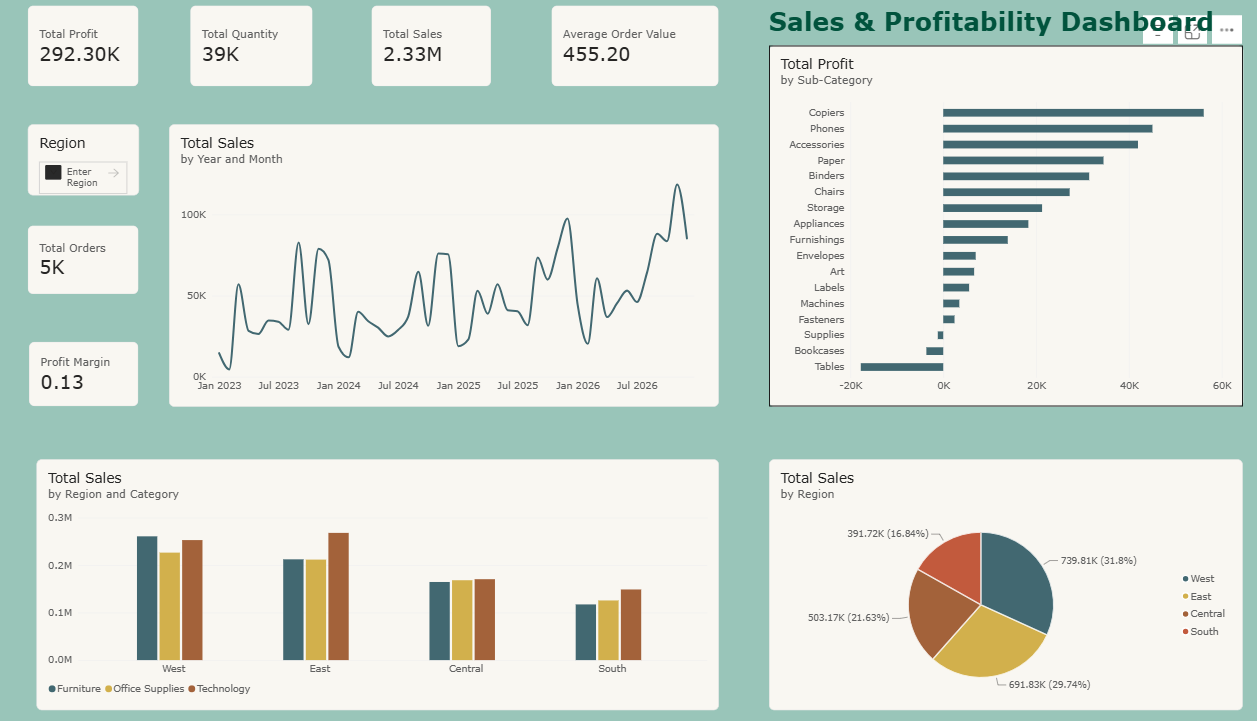

The page's visual inventory and layout, read from the dashboard file:
{"tool":"powerbi","page":{"name":"Page 1","canvas":[1920,1080],"ordinal":0},"visuals":[{"type":"cardVisual","fields":{"Data":["Orders.Total Sales"]},"box":[585.3,18.4,176.7,119.6],"z":0},{"type":"cardVisual","fields":{"Data":["Orders.Total Profit"]},"box":[79.1,18.4,163.8,119.6],"z":1000},{"type":"cardVisual","fields":{"Data":["Orders.Total Orders"]},"box":[79.1,342.3,163.8,101.2],"z":2000},{"type":"cardVisual","fields":{"Data":["Orders.Average Order Value"]},"box":[850.3,18.4,246.6,119.6],"z":3000},{"type":"cardVisual","fields":{"Data":["Orders.Profit Margin"]},"box":[81,513.5,162,95.7],"z":4000},{"type":"cardVisual","fields":{"Data":["Orders.Total Quantity"]},"box":[318.4,18.4,180.4,119.6],"z":5000},{"type":"lineChart","fields":{"Category":["Orders.Order Date.Variation.Date Hierarchy.Year","Orders.Order Date.Variation.Date Hierarchy.Month"],"Y":["Orders.Total Sales"]},"box":[287.1,193.3,809.8,416],"z":6000},{"type":"clusteredBarChart","fields":{"Category":["Orders.Sub-Category"],"Y":["Orders.Total Profit"]},"box":[1170,78,698,532],"z":7000},{"type":"clusteredColumnChart","fields":{"Category":["Orders.Region"],"Series":["Orders.Category"],"Y":["Orders.Total Sales"]},"box":[92,686.5,1004.9,369.9],"z":8000},{"type":"pieChart","fields":{"Category":["Orders.Region"],"Y":["Orders.Total Sales"]},"box":[1170.6,686.5,697.5,369.9],"z":9000},{"type":"textSlicer","fields":{"Values":["Orders.Region"]},"box":[79.1,193.3,163.8,104.9],"z":10000},{"type":"textbox","box":[1170,18,750,60],"z":11000}]}

Visuals, with their boxes in screenshot pixels (x1, y1, x2, y2), scaled from the page's 1920x1080 canvas onto the 1257x721 screenshot:
cardVisual - Orders.Total Sales: {"x1": 383, "y1": 12, "x2": 499, "y2": 92}
cardVisual - Orders.Total Profit: {"x1": 52, "y1": 12, "x2": 159, "y2": 92}
cardVisual - Orders.Total Orders: {"x1": 52, "y1": 229, "x2": 159, "y2": 296}
cardVisual - Orders.Average Order Value: {"x1": 557, "y1": 12, "x2": 718, "y2": 92}
cardVisual - Orders.Profit Margin: {"x1": 53, "y1": 343, "x2": 159, "y2": 407}
cardVisual - Orders.Total Quantity: {"x1": 208, "y1": 12, "x2": 327, "y2": 92}
lineChart - Orders.Order Date.Variation.Date Hierarchy.Year x Orders.Order Date.Variation.Date Hierarchy.Month: {"x1": 188, "y1": 129, "x2": 718, "y2": 407}
clusteredBarChart - Orders.Sub-Category x Orders.Total Profit: {"x1": 766, "y1": 52, "x2": 1223, "y2": 407}
clusteredColumnChart - Orders.Region x Orders.Category: {"x1": 60, "y1": 458, "x2": 718, "y2": 705}
pieChart - Orders.Region x Orders.Total Sales: {"x1": 766, "y1": 458, "x2": 1223, "y2": 705}
textSlicer - Orders.Region: {"x1": 52, "y1": 129, "x2": 159, "y2": 199}
textbox: {"x1": 766, "y1": 12, "x2": 1256, "y2": 52}
